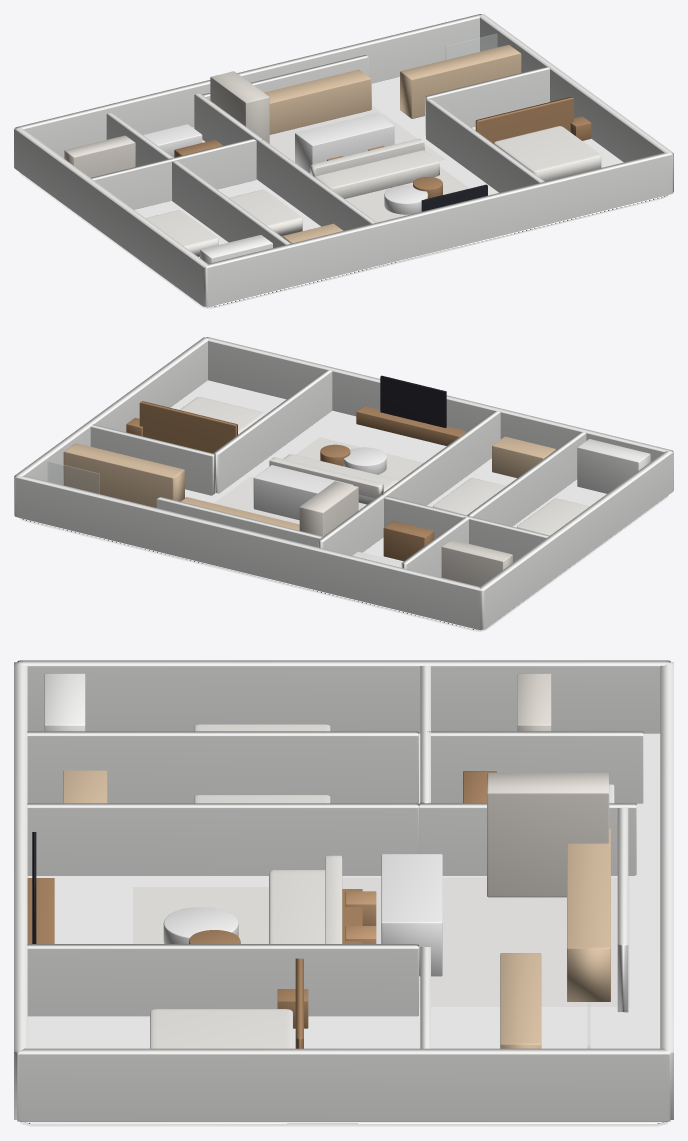
File: wirye_37py.glb
3 renders of one model, top to bottom at view 1: azimuth 30°, elevation 25°; view 2: azimuth 150°, elevation 25°; view 3: azimuth 270°, elevation 25°, orthographic. The views are drawn at different scales.
Visible parts, largest first — view 1: Wall_Arch_0, Wall_Arch_1, Wall_Arch_2, Floor_Main_Wood, Wall_Arch_3, Wall_Arch_7, Kitchen_Back_Counter, Wall_Arch_4, Wall_Arch_5, Master_Walkin_Closet, Wall_Arch_8, Wall_Arch_6 (+21 smaller); view 2: Wall_Arch_1, Wall_Arch_0, Floor_Main_Wood, Wall_Arch_2, Wall_Arch_3, Wall_Arch_4, Master_Walkin_Closet, Wall_Arch_5, Wall_Arch_6, Wall_Arch_7, Wall_Arch_8, Master_Bed_Headboard (+22 smaller); view 3: Wall_Arch_3, Wall_Arch_2, Floor_Main_Wood, Wall_Arch_5, Wall_Arch_4, Wall_Arch_6, Floor_Kitchen_Tile, Kitchen_Fridge_Wall, Wall_Arch_11, Kitchen_Back_Counter, Kitchen_Island, Wall_Arch_10 (+20 smaller).
Boxes of the visible parts, bbox=[...] form: Wall_Arch_0: bbox=[205, 152, 673, 306]; Wall_Arch_1: bbox=[14, 14, 481, 158]; Wall_Arch_2: bbox=[14, 128, 208, 306]; Floor_Main_Wood: bbox=[19, 77, 668, 308]; Wall_Arch_3: bbox=[479, 14, 673, 192]; Wall_Arch_7: bbox=[91, 138, 256, 209]; Kitchen_Back_Counter: bbox=[264, 69, 371, 134]; Wall_Arch_4: bbox=[426, 98, 544, 192]; Wall_Arch_5: bbox=[257, 139, 376, 230]; Master_Walkin_Closet: bbox=[400, 45, 521, 118]; Wall_Arch_8: bbox=[425, 66, 549, 135]; Wall_Arch_6: bbox=[172, 160, 290, 247]; Wall_Arch_1: bbox=[14, 475, 482, 629]; Wall_Arch_0: bbox=[206, 337, 673, 461]; Floor_Main_Wood: bbox=[19, 380, 668, 631]; Wall_Arch_2: bbox=[479, 451, 673, 629]; Wall_Arch_3: bbox=[14, 337, 208, 515]; Wall_Arch_4: bbox=[213, 370, 332, 493]; Master_Walkin_Closet: bbox=[63, 443, 184, 507]; Wall_Arch_5: bbox=[381, 411, 500, 505]; Wall_Arch_6: bbox=[467, 432, 586, 526]; Wall_Arch_7: bbox=[384, 496, 549, 562]; Wall_Arch_8: bbox=[90, 424, 215, 495]; Master_Bed_Headboard: bbox=[139, 401, 237, 453]; Wall_Arch_3: bbox=[17, 1048, 670, 1121]; Wall_Arch_2: bbox=[17, 660, 670, 733]; Floor_Main_Wood: bbox=[19, 733, 668, 1126]; Wall_Arch_5: bbox=[27, 803, 418, 875]; Wall_Arch_4: bbox=[27, 944, 418, 1016]; Wall_Arch_6: bbox=[27, 731, 418, 803]; Floor_Kitchen_Tile: bbox=[342, 877, 629, 1006]; Kitchen_Fridge_Wall: bbox=[487, 773, 609, 897]; Wall_Arch_11: bbox=[427, 731, 643, 803]; Kitchen_Back_Counter: bbox=[567, 828, 610, 1001]; Kitchen_Island: bbox=[381, 854, 442, 976]; Wall_Arch_10: bbox=[419, 803, 636, 875].
Bounding box in the file's own units: 13.7 × 1.8 × 9.7.
